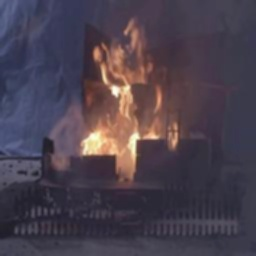fire: (72, 23, 179, 159)
